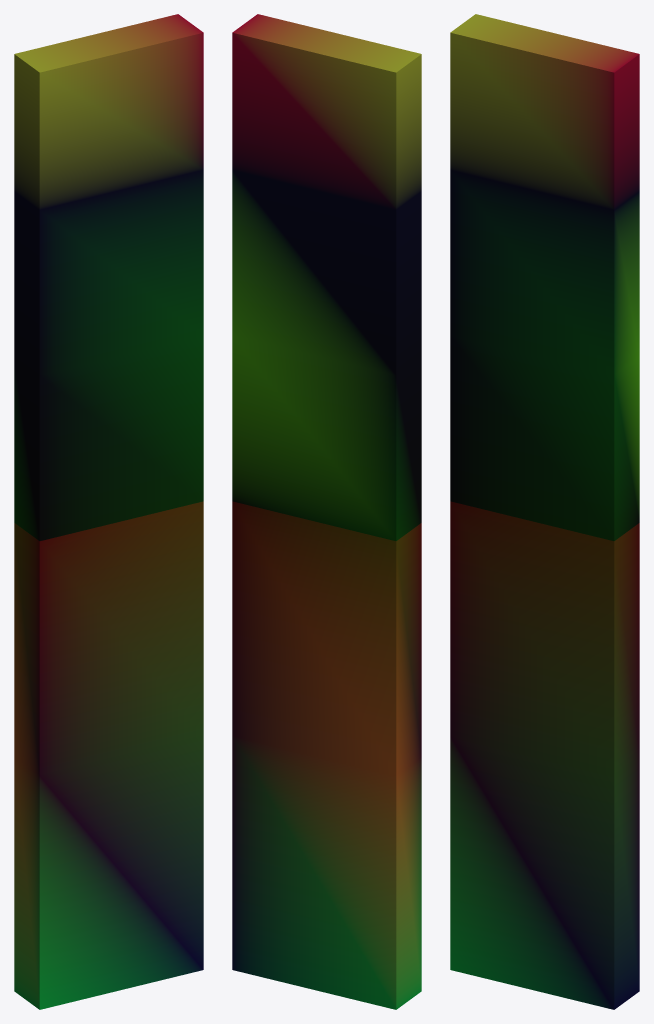
Rendered from SEA_Bridge_Pillar.fbx.
3 views of the same model, side by side, from view 1: azimuth 30°, elevation 25°; view 2: azimuth 150°, elevation 25°; view 3: azimuth 330°, elevation 25° (orthographic).
Parts seen in each view (by area): view 1: SEA_Bridge_Pillar; view 2: SEA_Bridge_Pillar; view 3: SEA_Bridge_Pillar.
Boxes of the visible parts, x1,y1,x2,y2 form: SEA_Bridge_Pillar: (14,14,203,1009); SEA_Bridge_Pillar: (232,14,421,1009); SEA_Bridge_Pillar: (450,14,639,1009).
Bounding box in the file's own units: 13 × 71 × 3.5.
